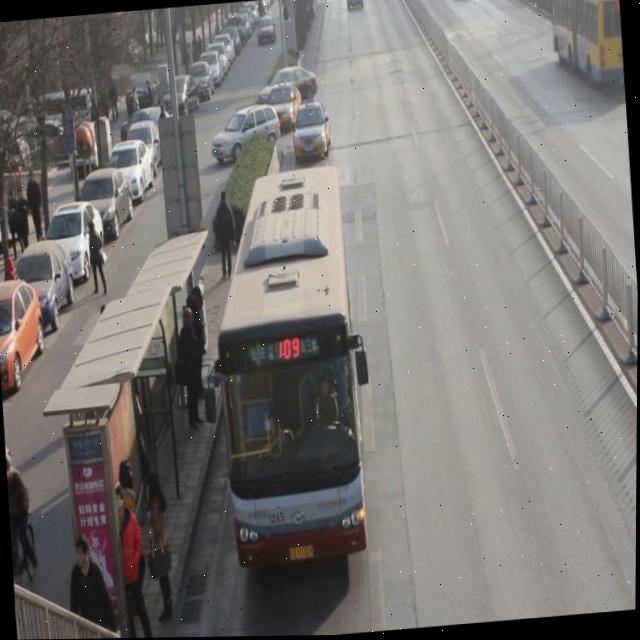car: (256, 64, 319, 114), (291, 97, 333, 164), (266, 81, 305, 132)
van: (207, 172, 369, 569), (545, 0, 625, 94)
